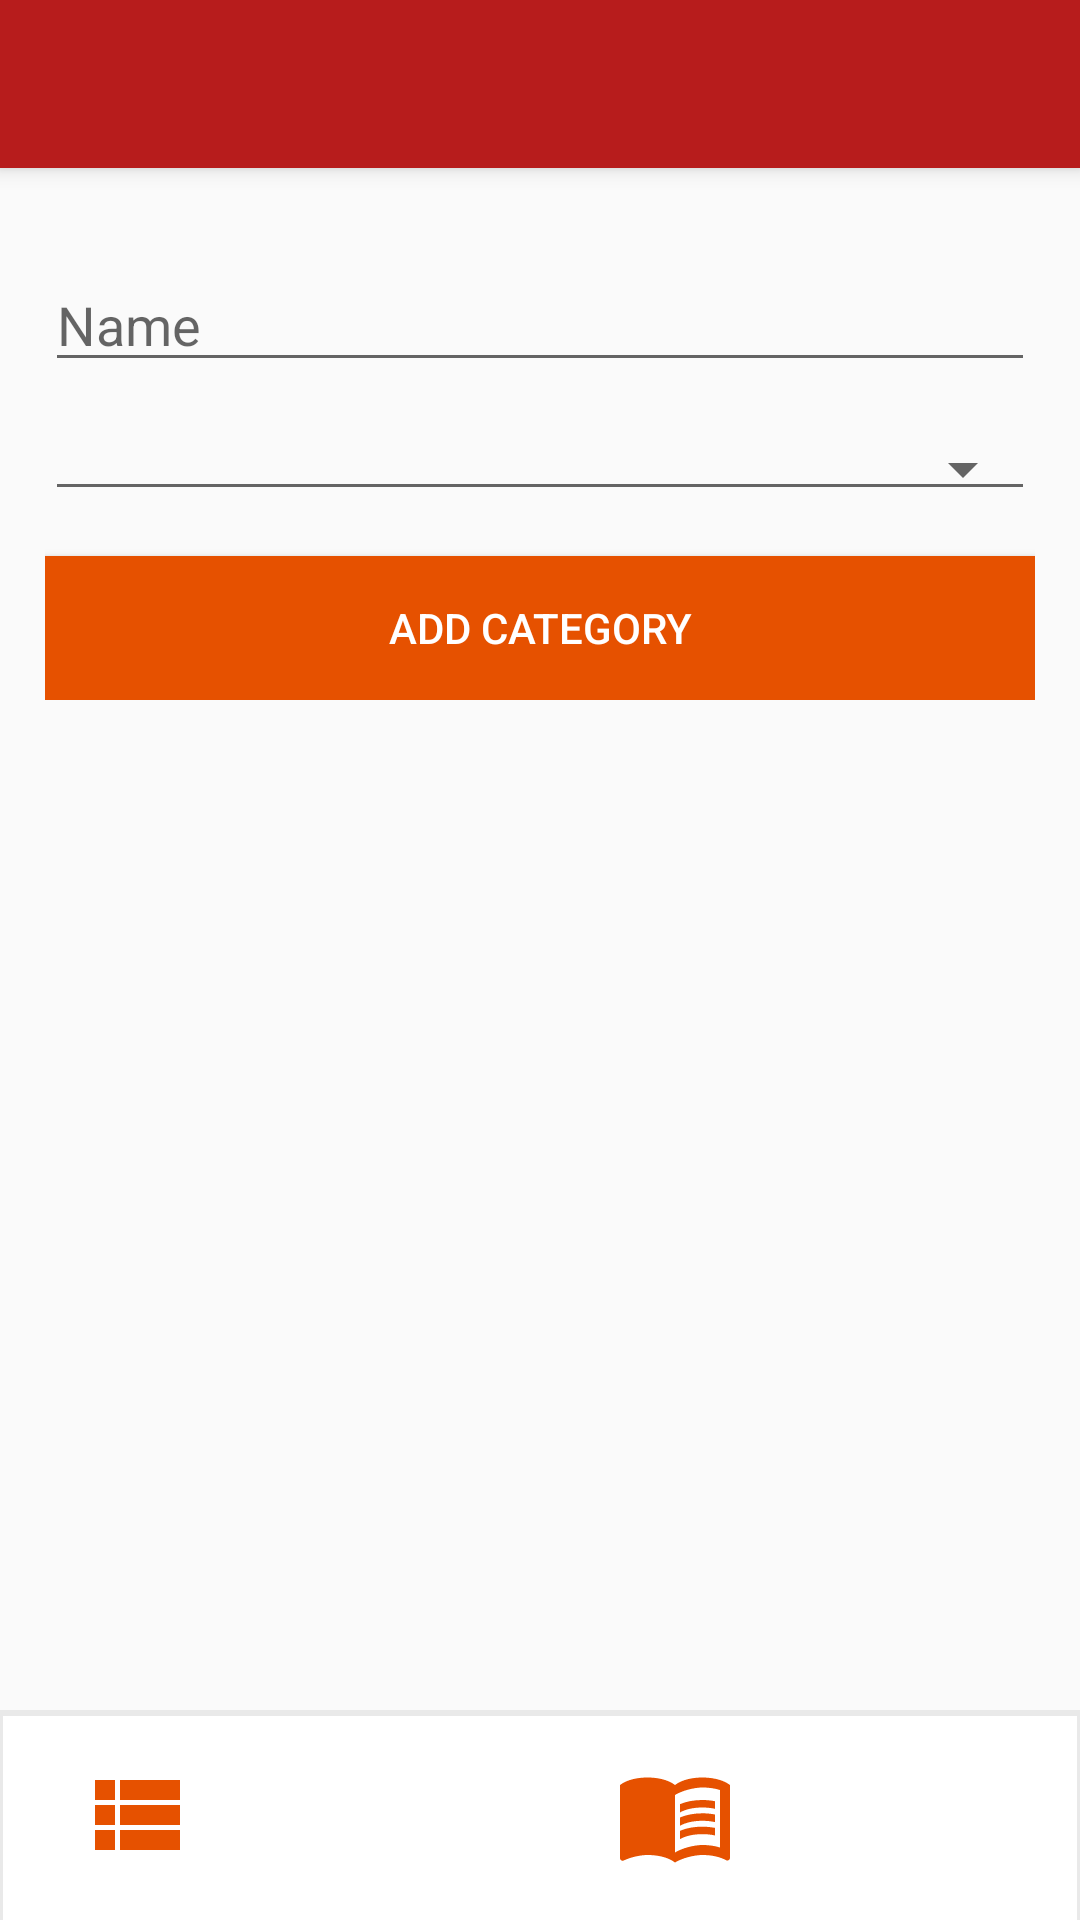

Icons on this 1080 × 1920 Android screen, each with its box as detection(x1, y1, x2, y2):
book: detection(620, 1777, 730, 1863)
view list: detection(95, 1780, 180, 1850)
